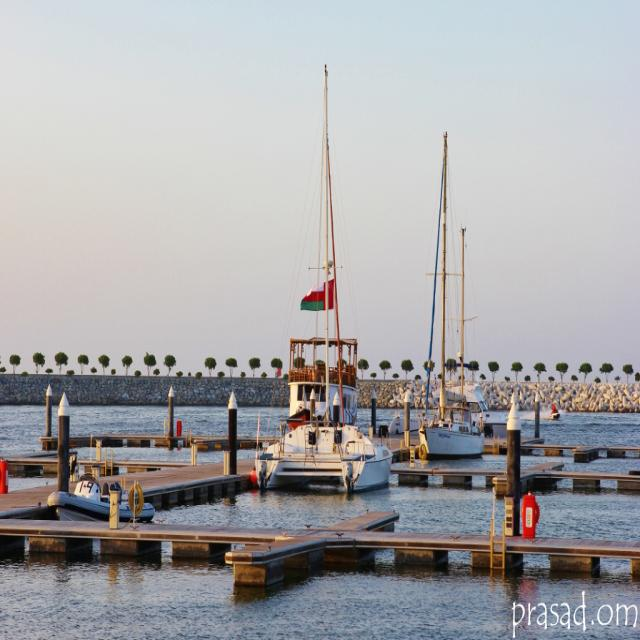Boat: (251, 78, 386, 507), (390, 227, 510, 433), (416, 132, 486, 460), (44, 474, 155, 526), (548, 404, 560, 419)
